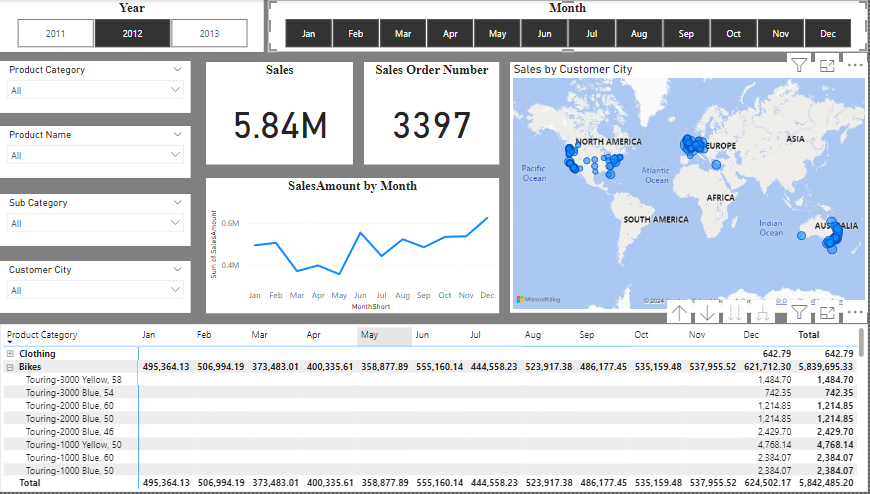

The dashboard page shown, as its layout file describes it:
{"tool":"powerbi","page":{"name":"Product","canvas":[1280,720],"ordinal":1},"visuals":[{"type":"slicer","title":"Year","fields":{"Values":["DimDate.Year"]},"box":[10.3,0,385.9,75.8],"z":0},{"type":"slicer","fields":{"Values":["DimProduct.Product Category"]},"box":[10.3,89.6,279.1,75.8],"z":1000},{"type":"slicer","fields":{"Values":["DimProduct.Product Name"]},"box":[10.3,184.3,279.1,75.8],"z":2000},{"type":"card","title":"Sales","fields":{"Values":["DimCustomer.Sales"]},"box":[311.8,91.3,215.3,149.9],"z":3000},{"type":"card","title":"Sales Order Number","fields":{"Values":["CountNonNull(FactInternetSales.SalesOrderNumber)"]},"box":[542.7,91.3,198.1,149.9],"z":4000},{"type":"slicer","title":"Month","fields":{"Values":["DimDate.MonthShort"]},"box":[403.1,0,876.9,75.8],"z":5000},{"type":"slicer","fields":{"Values":["DimProduct.Sub Category"]},"box":[10.3,284.3,279.1,75.8],"z":6000},{"type":"slicer","fields":{"Values":["DimCustomer.Customer City"]},"box":[10.3,382.4,279.1,75.8],"z":7000},{"type":"lineChart","title":"SalesAmount by Month","fields":{"Category":["DimDate.MonthShort"],"Y":["Sum(FactInternetSales.SalesAmount)"]},"box":[311.8,260.1,429,198.1],"z":8000},{"type":"map","fields":{"Category":["DimCustomer.Customer City"],"Size":["DimCustomer.Sales"]},"box":[756.3,91.3,523.7,366.9],"z":9000},{"type":"pivotTable","fields":{"Rows":["DimProduct.Product Category","DimProduct.Product Name"],"Columns":["DimDate.MonthShort"],"Values":["DimCustomer.Sales"]},"box":[10.3,473.8,1269.7,246.4],"z":10000}]}

Visuals, with their boxes in screenshot pixels (x1, y1, x2, y2), scaled from the page's 1280x720 canvas onto the 870x494 screenshot:
"Year" slicer: [7,0,269,52]
slicer - DimProduct.Product Category: [7,61,197,113]
slicer - DimProduct.Product Name: [7,126,197,178]
"Sales" card: [212,63,358,165]
"Sales Order Number" card: [369,63,504,165]
"Month" slicer: [274,0,869,52]
slicer - DimProduct.Sub Category: [7,195,197,247]
slicer - DimCustomer.Customer City: [7,262,197,314]
"SalesAmount by Month" lineChart: [212,178,504,314]
map - DimCustomer.Customer City x DimCustomer.Sales: [514,63,869,314]
pivotTable - DimProduct.Product Category x DimProduct.Product Name: [7,325,869,493]
